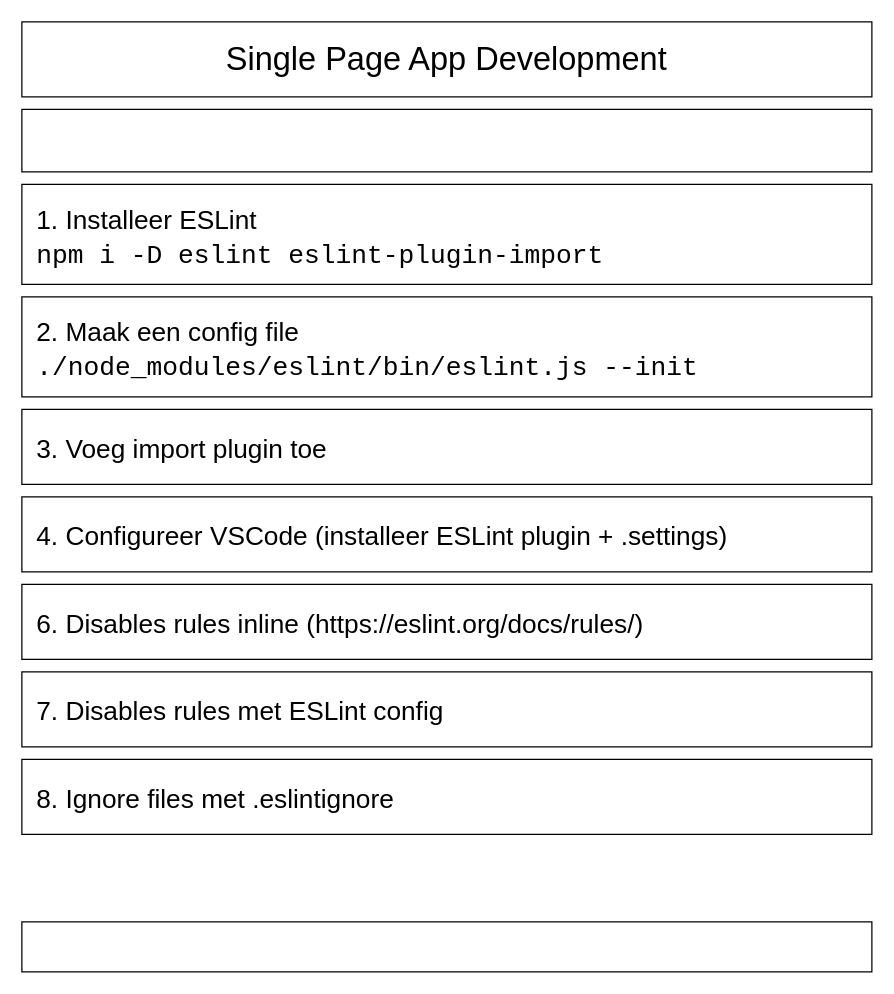
Image size: 894x994. Some labels were removed from this diagram. The shapes that lost their labels are listed below. From the top down, each one's centre as x and y in pixels, then its label:
At [446,140]: "ESLint ( https://eslint.org )".
At [446,946]: "Next: Deployment met Netlify".
